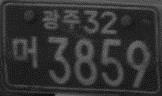2: (100, 10, 117, 36)
3: (47, 35, 71, 85), (81, 9, 99, 34)
5: (101, 37, 124, 88)
8: (74, 37, 98, 87)
9: (125, 38, 150, 88)
광주_O: (41, 8, 81, 30)
머: (11, 34, 37, 68)
